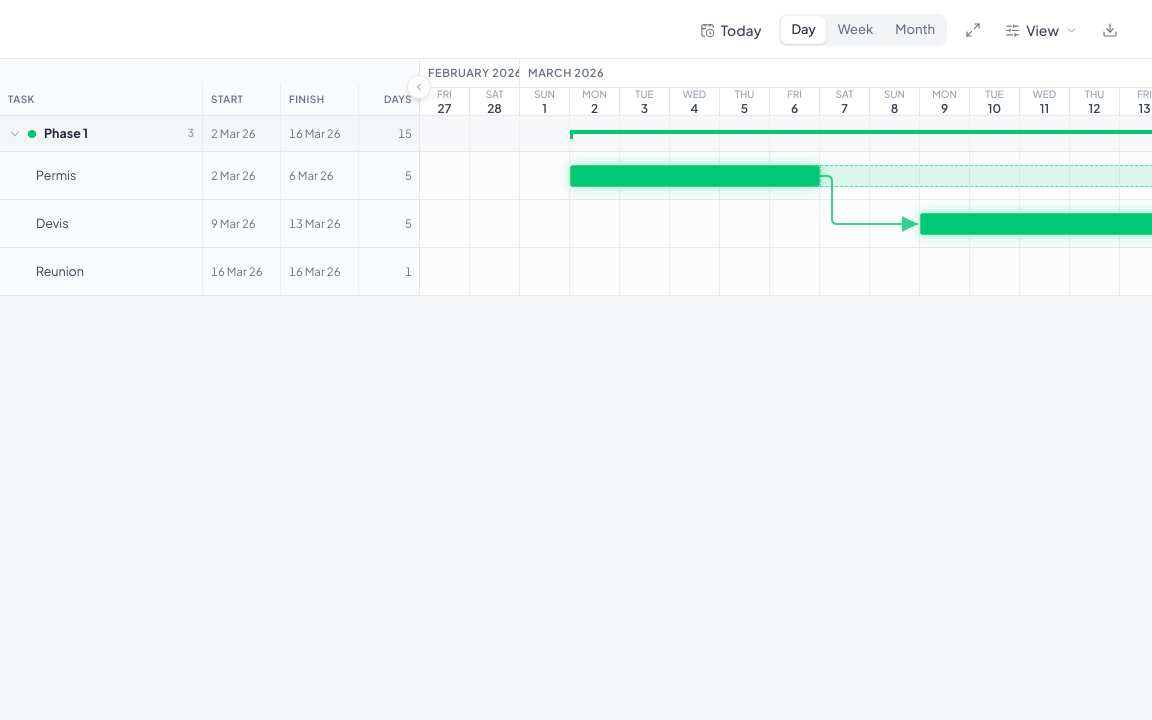
Test: GanttChart delay notes › turns the slip into a button that opens its notes
Click the button "View": click(1042, 30) [995,14,1088,46]
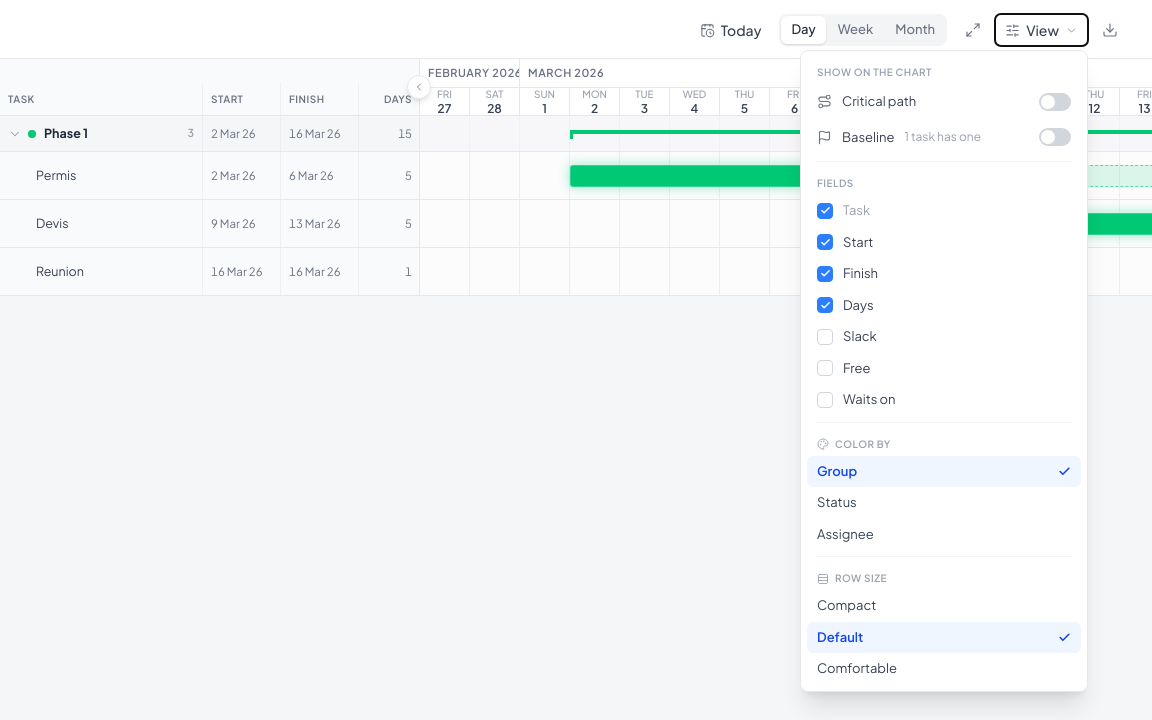
Click the switch labelled "Baseline 1 task has one": click(944, 137) [807,120,1081,155]
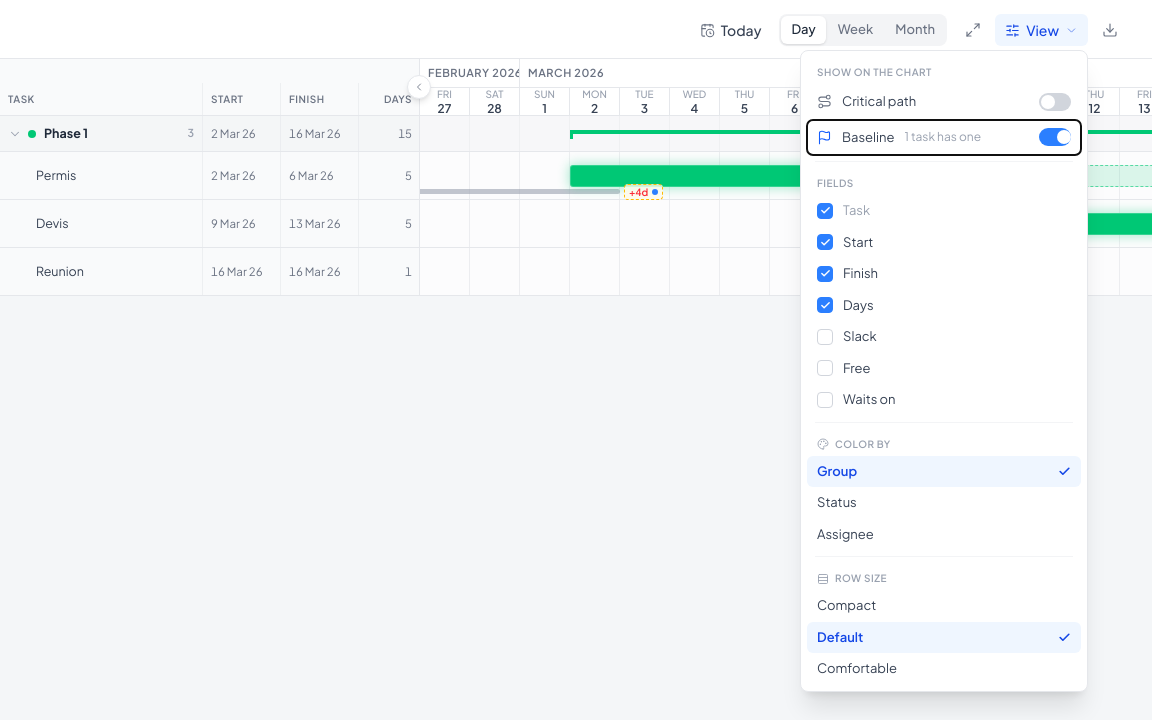
Press Escape
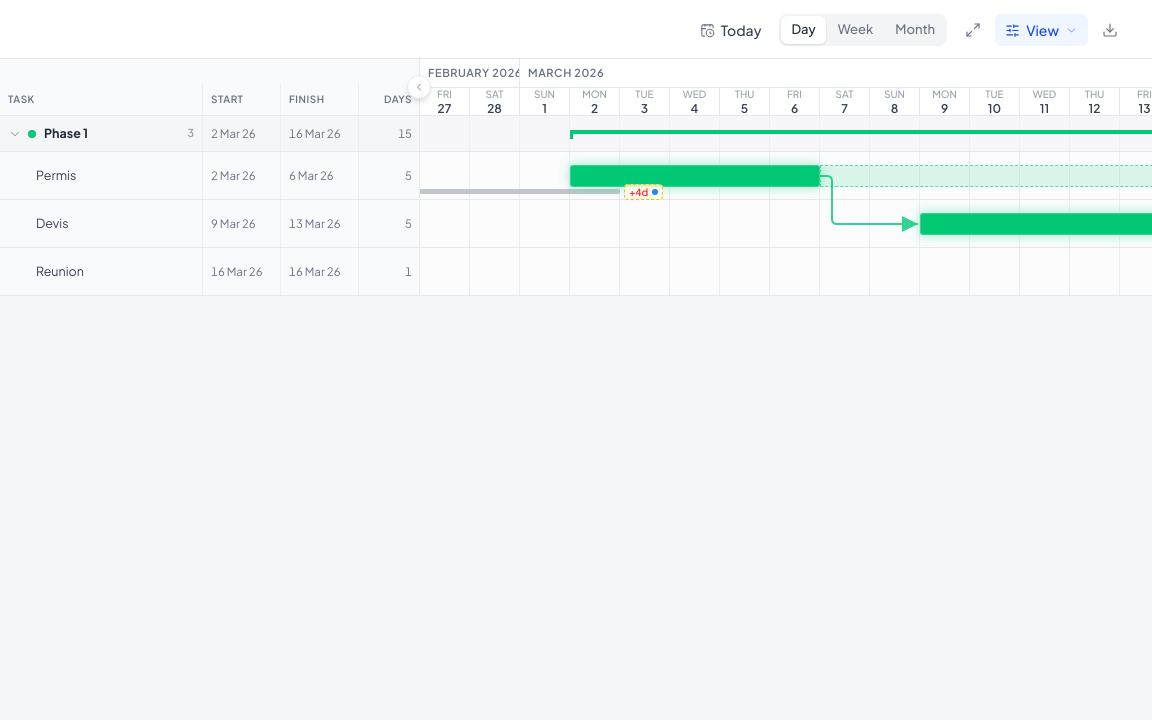
Now the button with test id "gantt-slip-chip" reads "+4d"
Click the button with test id "gantt-slip-chip": click(644, 192) [624,184,663,200]
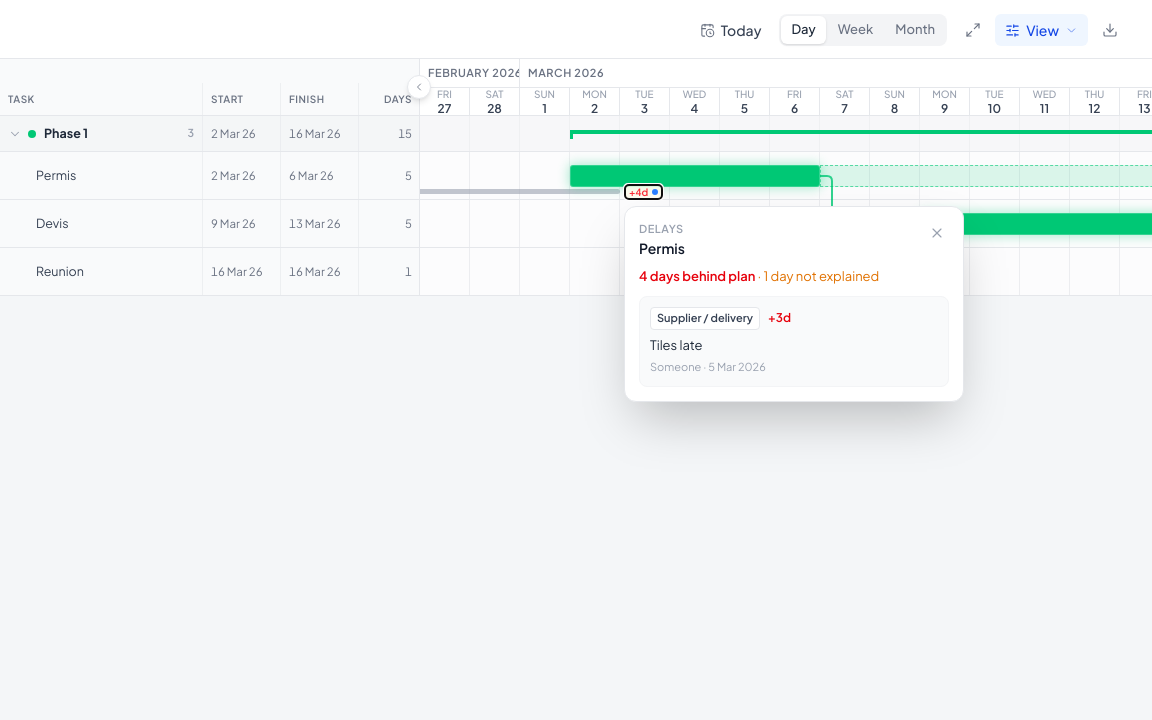
Now the text "Tiles late" is shown, box [650,336,702,352]
Now the text "· 1 day not explained" is shown, box [755,268,879,284]
